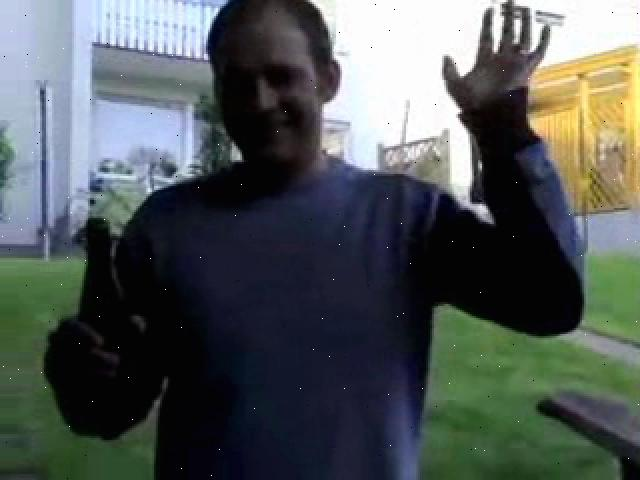L: (42, 4, 583, 478)
